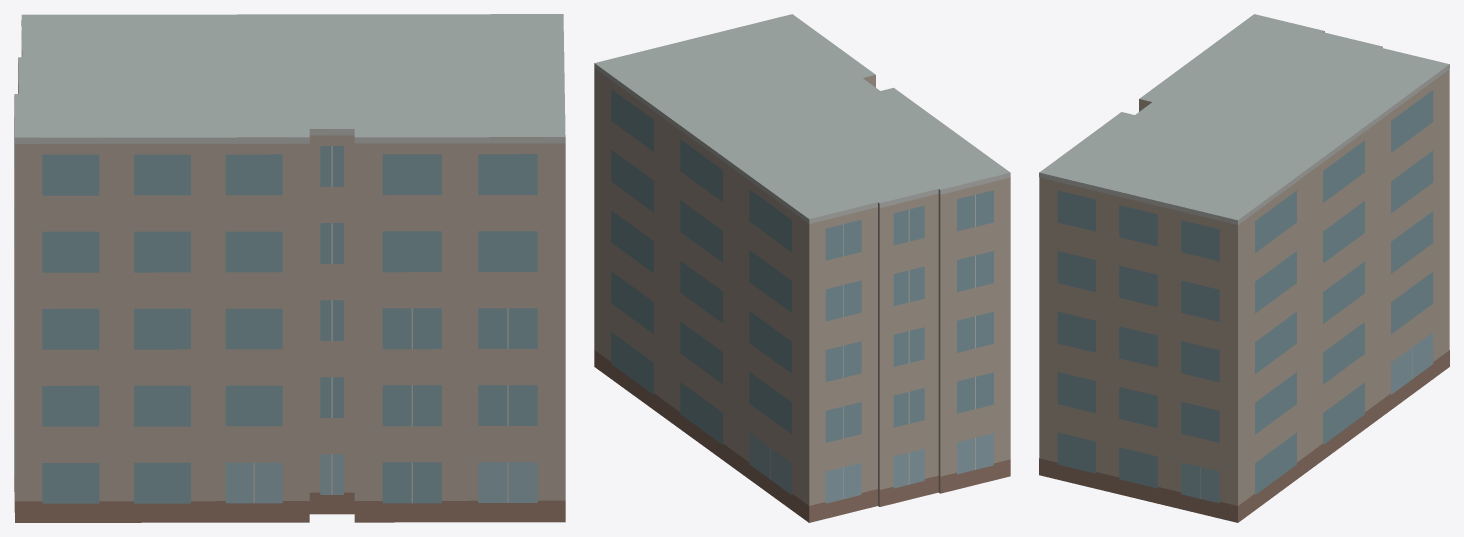
File: survey-upis-32605551.glb
The picture shows the model from 3 angles, left to right: view 1: azimuth 30°, elevation 25°; view 2: azimuth 150°, elevation 25°; view 3: azimuth 270°, elevation 25°; orthographic projection. The views are drawn at different scales.
Visible parts, largest first — view 1: survey-upis-32605551.tmp; view 2: survey-upis-32605551.tmp; view 3: survey-upis-32605551.tmp.
Part boxes in pixels (box(x1,y1,x2,y2)): survey-upis-32605551.tmp: box(14, 14, 565, 522); survey-upis-32605551.tmp: box(594, 14, 1010, 522); survey-upis-32605551.tmp: box(1039, 14, 1449, 522).
Size of the model in its own units: 22.23 by 15.2 by 18.7.
